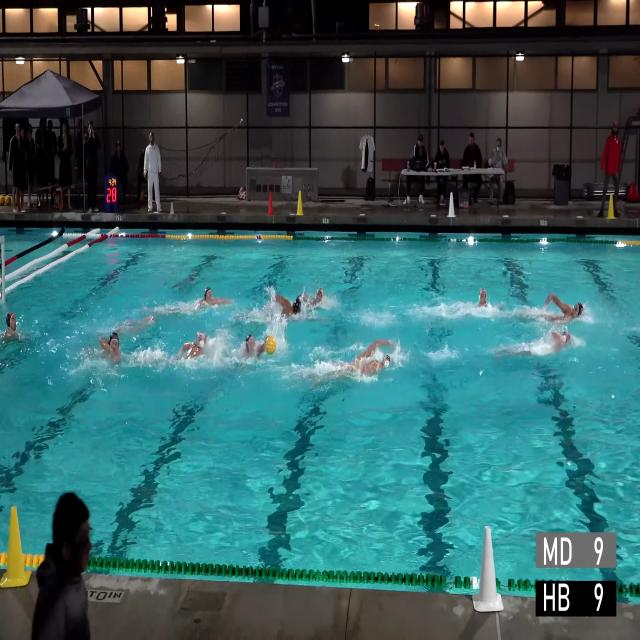ball: (265, 335, 276, 354), (5, 195, 11, 205), (0, 195, 5, 206), (15, 194, 17, 206)
